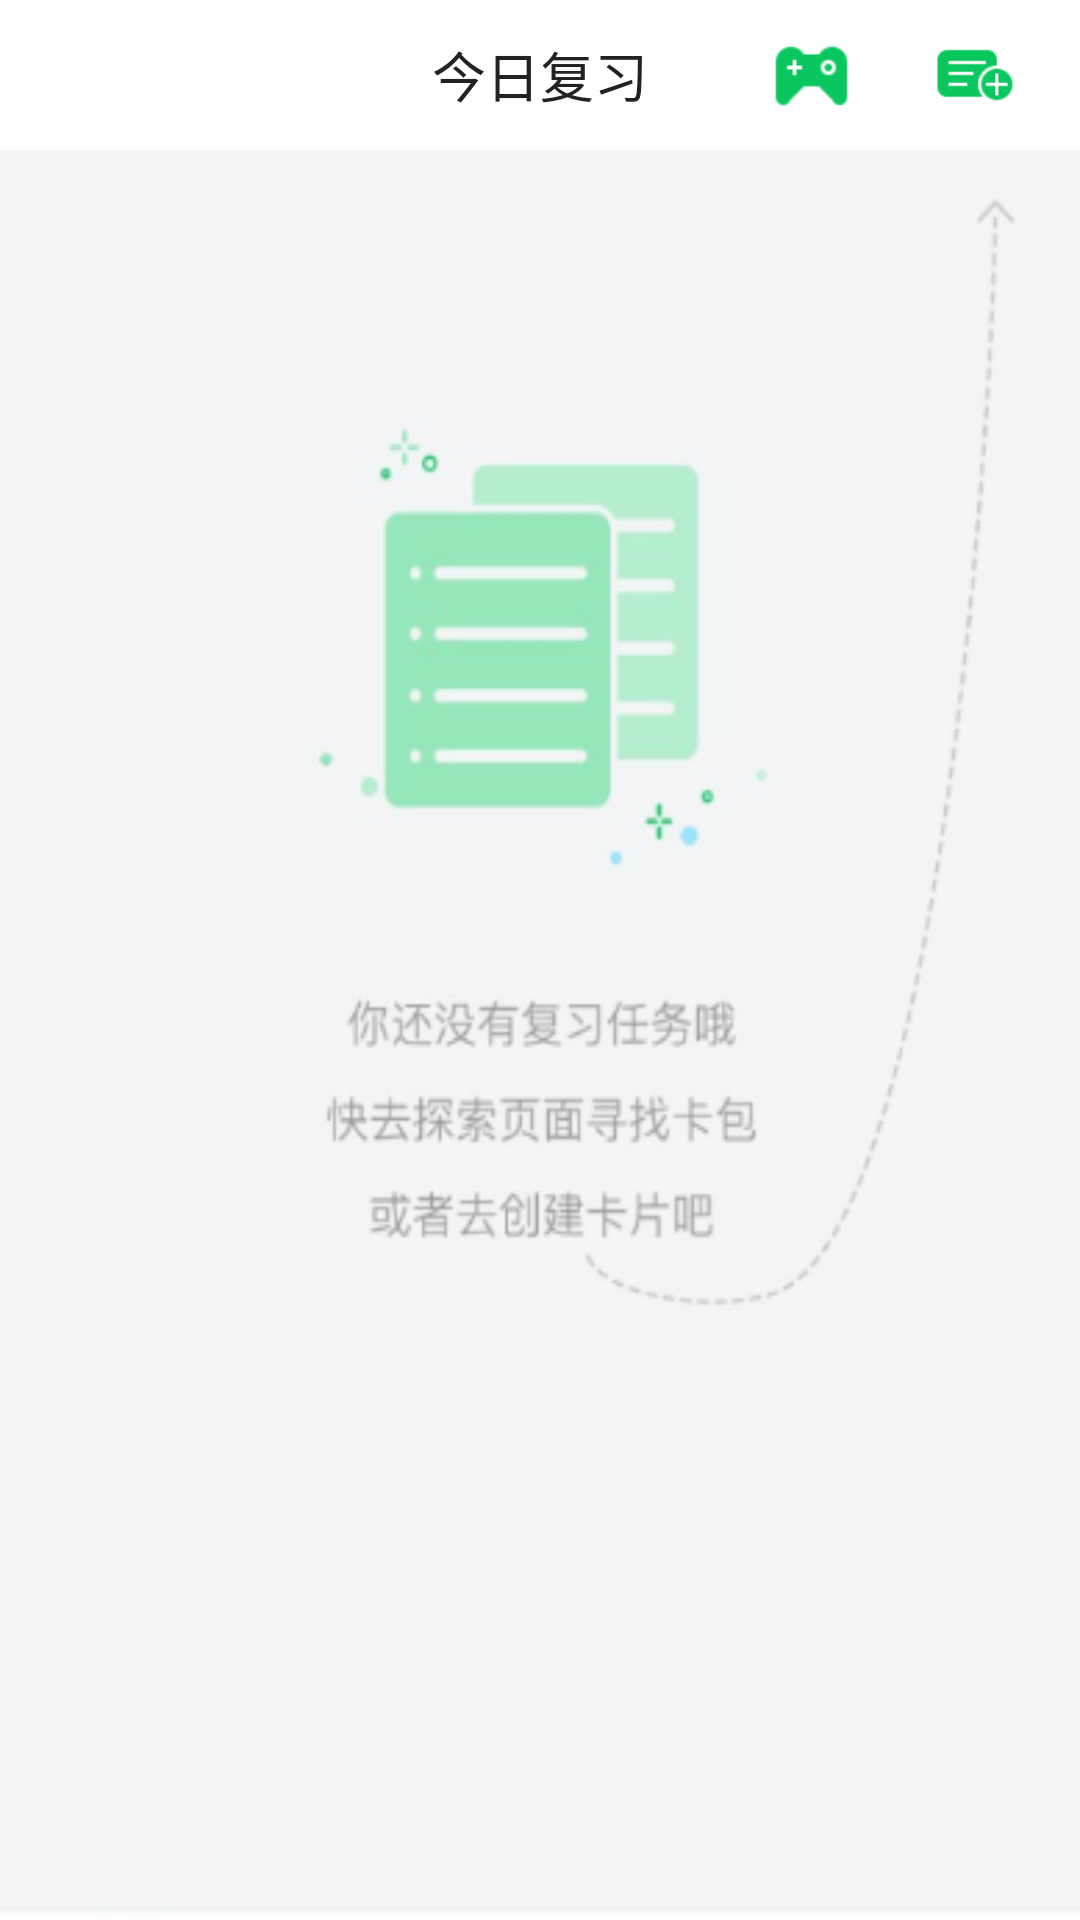

Screen size 1080×1920. Icon name, then its box in pixels as bbox=(x1, y1, x2, y2):
game: bbox=(775, 46, 848, 106)
newcard: bbox=(937, 49, 1013, 101)
